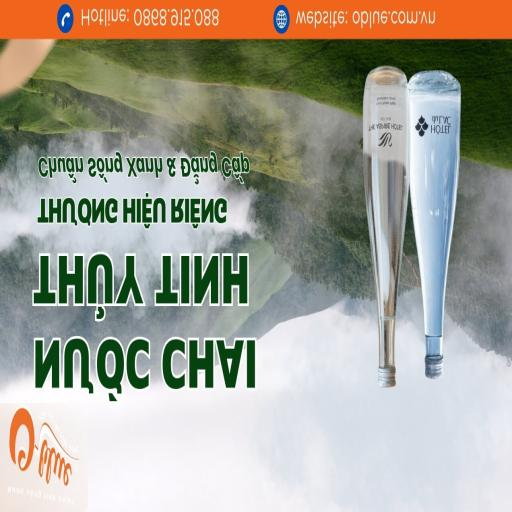bottle: (409, 71, 460, 379), (363, 66, 410, 388)
